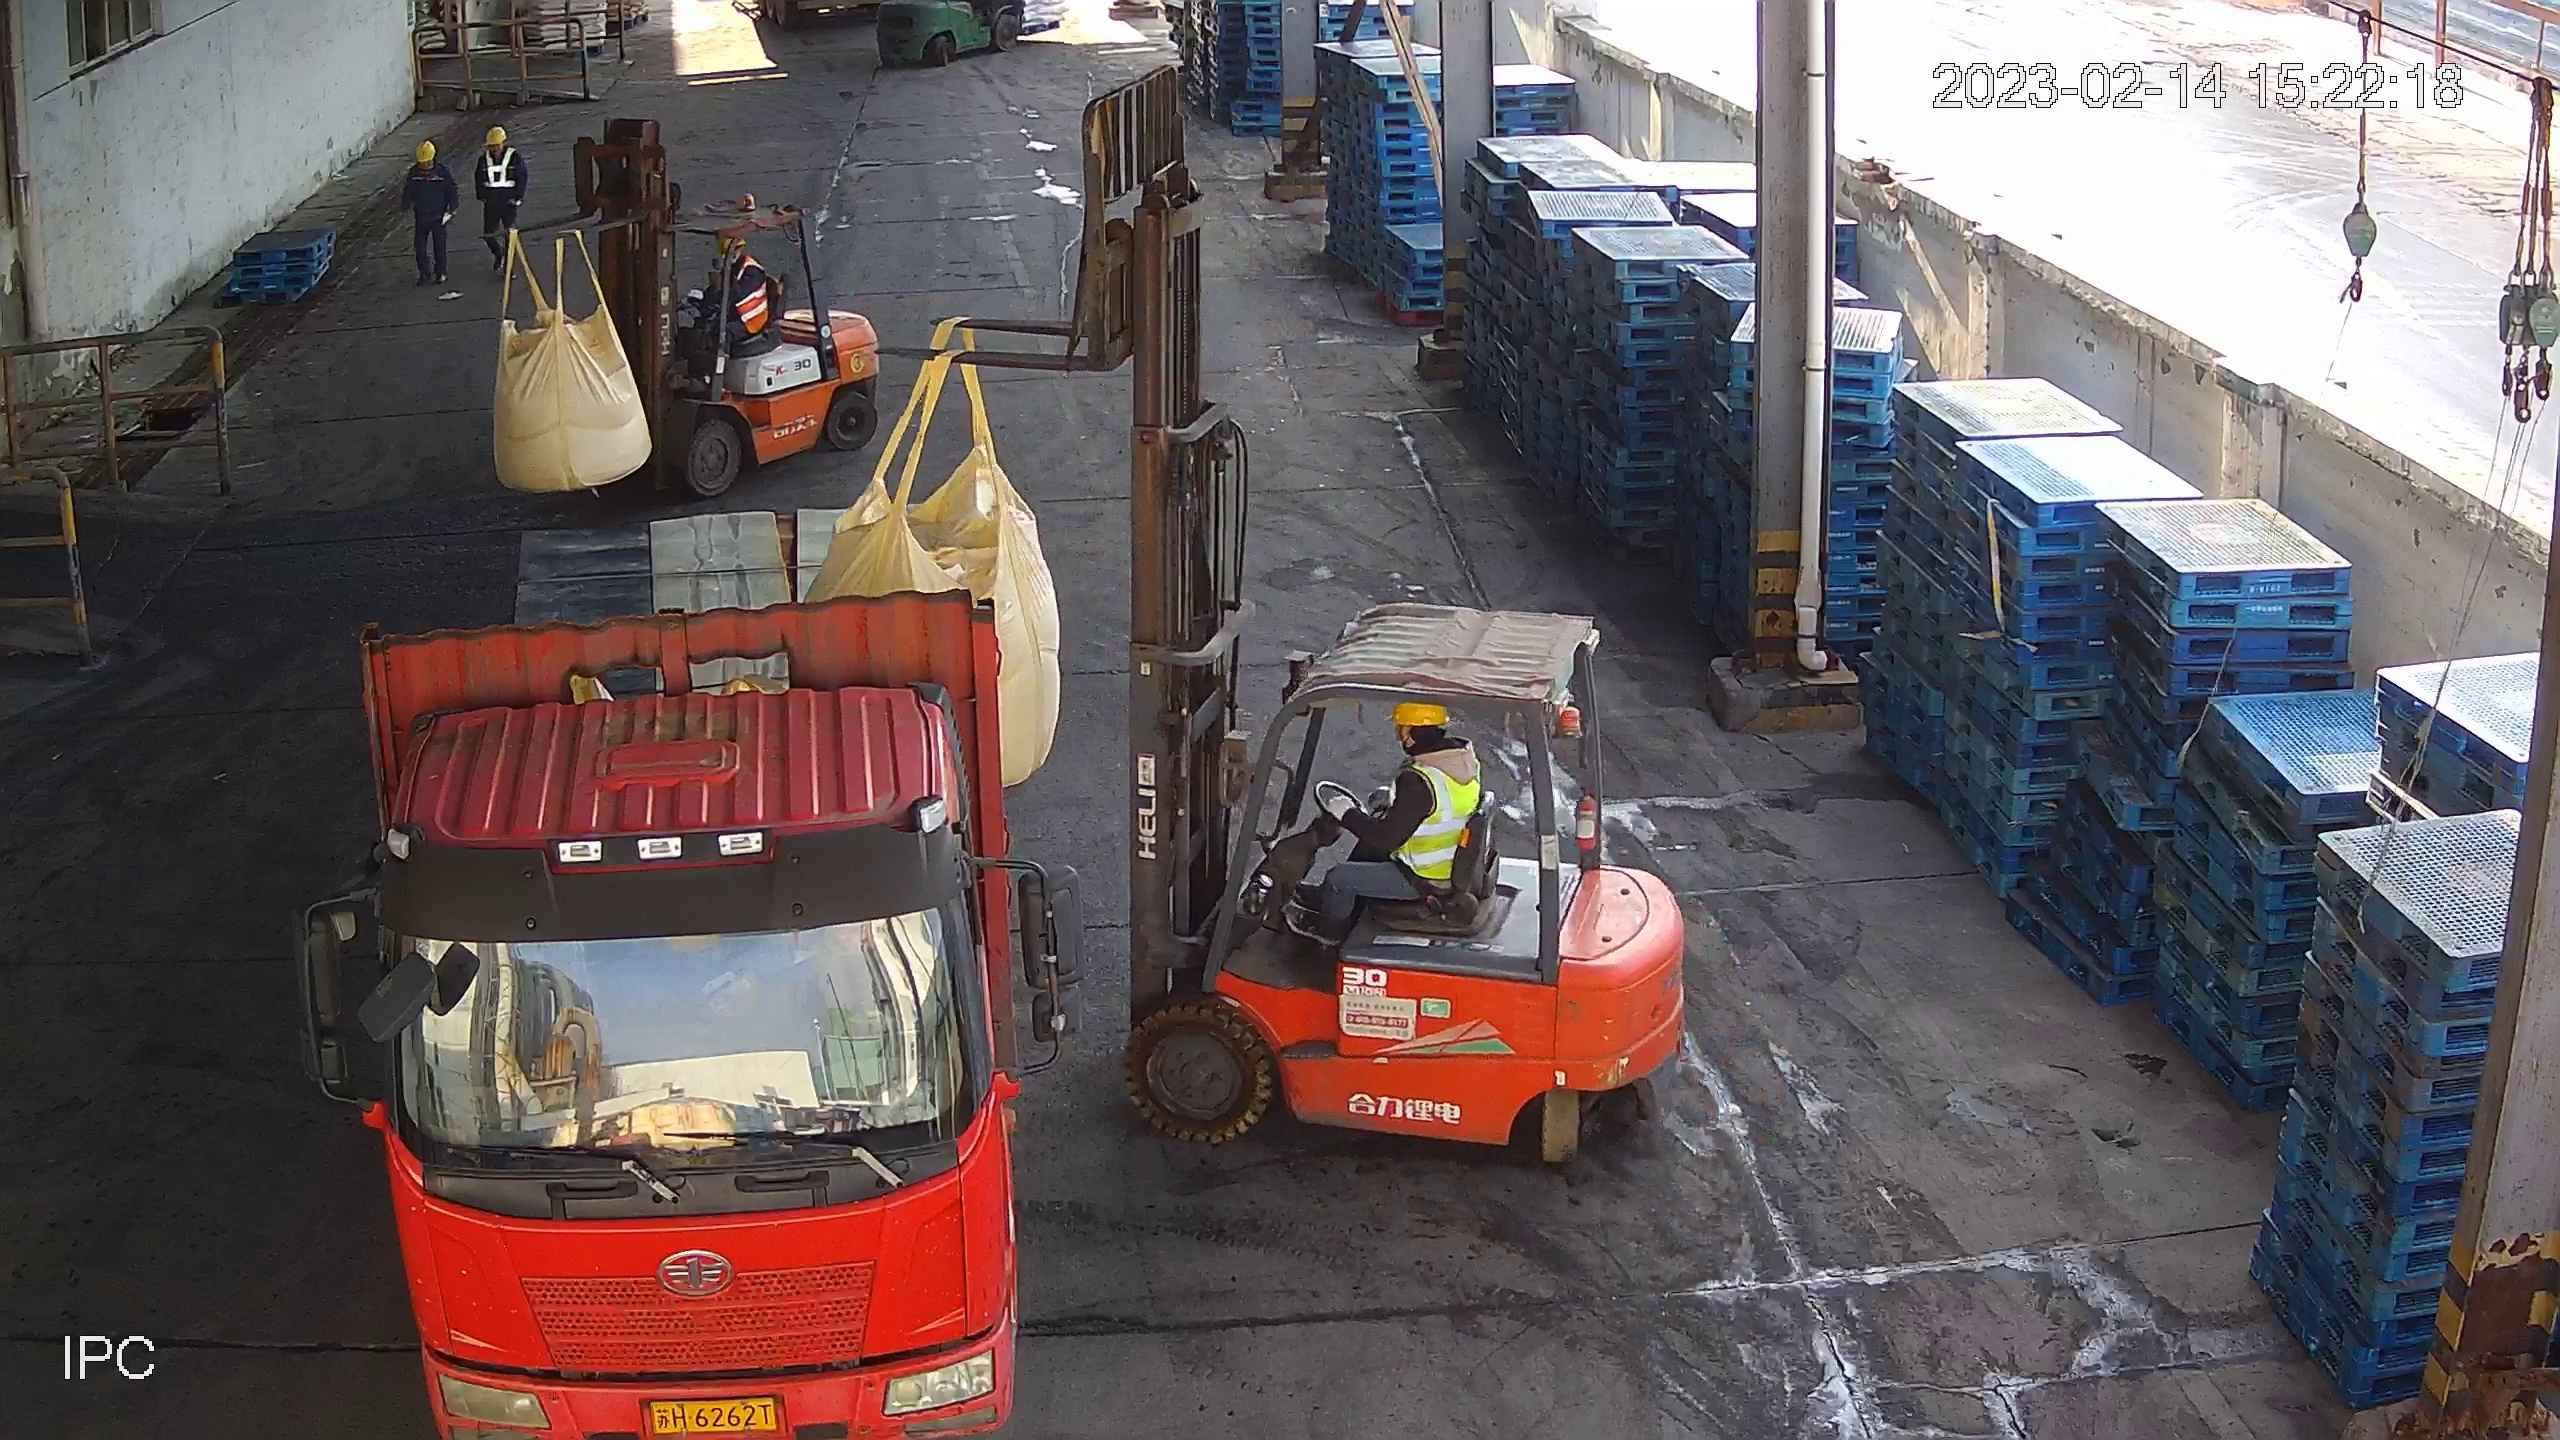head: (1350, 701, 1481, 833), (403, 138, 461, 200), (475, 126, 526, 187)
helmet: (1386, 703, 1450, 727), (484, 127, 507, 147), (416, 141, 436, 163)
people: (1283, 703, 1482, 946), (683, 234, 771, 345), (402, 138, 460, 290), (472, 124, 529, 275)
truck: (295, 506, 1090, 1433)
